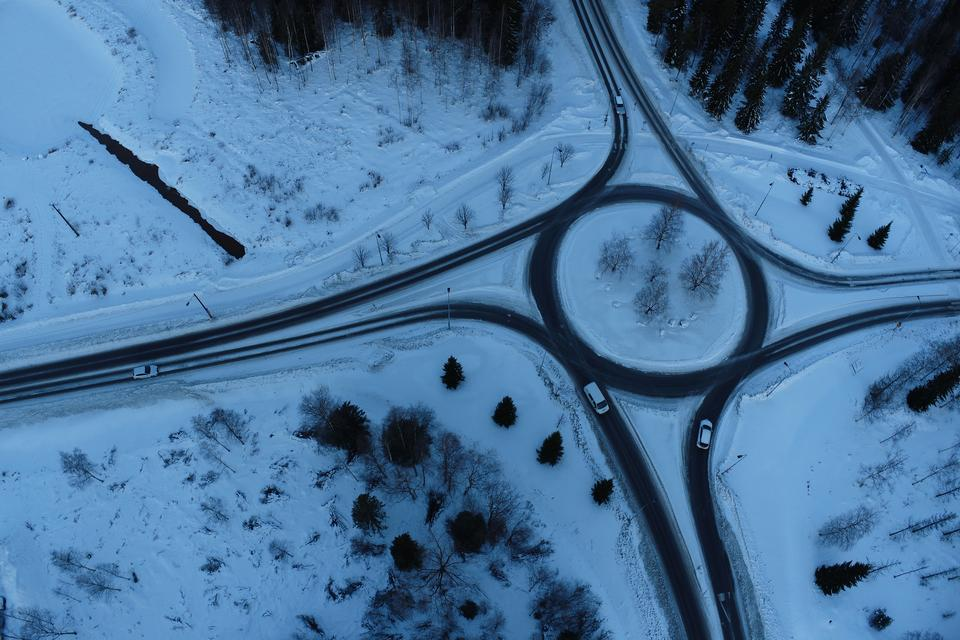intersection: (577, 116, 712, 165)
roundabout: (502, 171, 805, 428)
